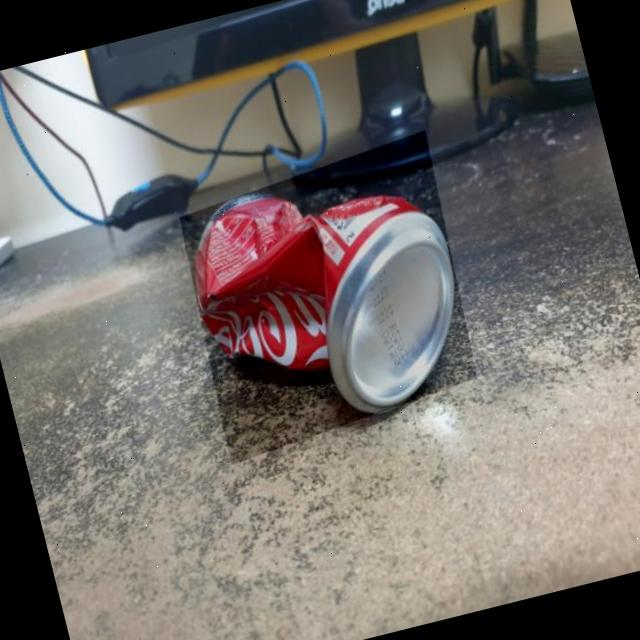trash: (170, 140, 494, 468)
